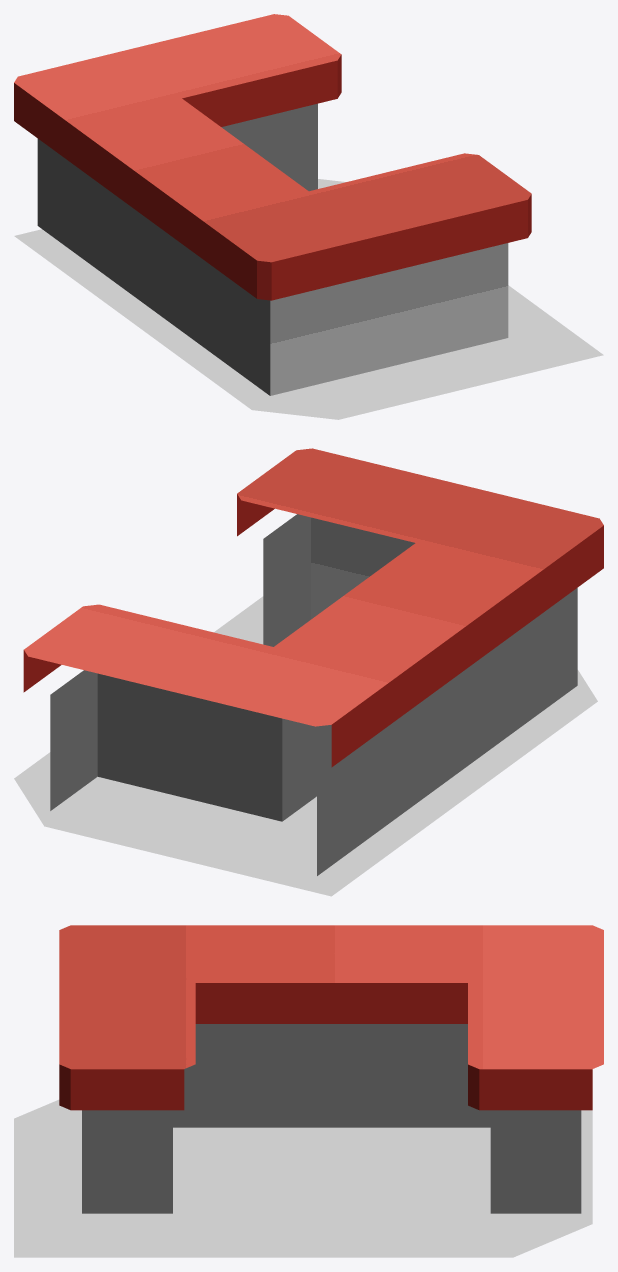
Rendered from Counter 2.obj.
The picture shows the model from 3 angles, top to bottom: view 1: azimuth 30°, elevation 25°; view 2: azimuth 150°, elevation 25°; view 3: azimuth 270°, elevation 25°; orthographic projection. The views are drawn at different scales.
Parts seen in each view (by area): view 1: polygon1, polygon0; view 2: polygon1, polygon0; view 3: polygon1, polygon0.
Part boxes in pixels (<box>): polygon1: <box>14,14,531,395</box>; polygon0: <box>14,179,603,419</box>; polygon1: <box>23,448,603,875</box>; polygon0: <box>14,596,597,896</box>; polygon1: <box>59,925,603,1213</box>; polygon0: <box>14,1099,592,1257</box>.
Size of the model in its own units: 35 by 16 by 52.
